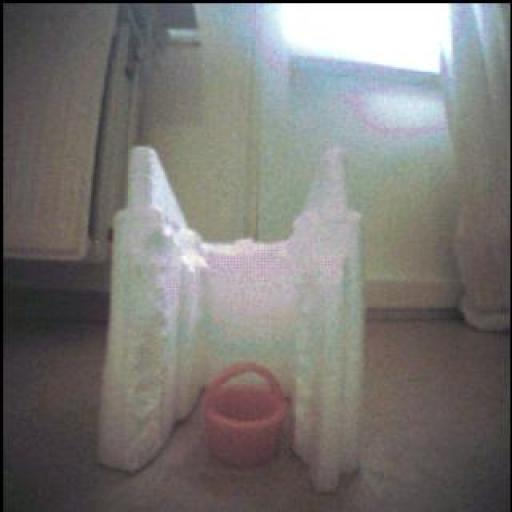Basket: (205, 363, 288, 468)
